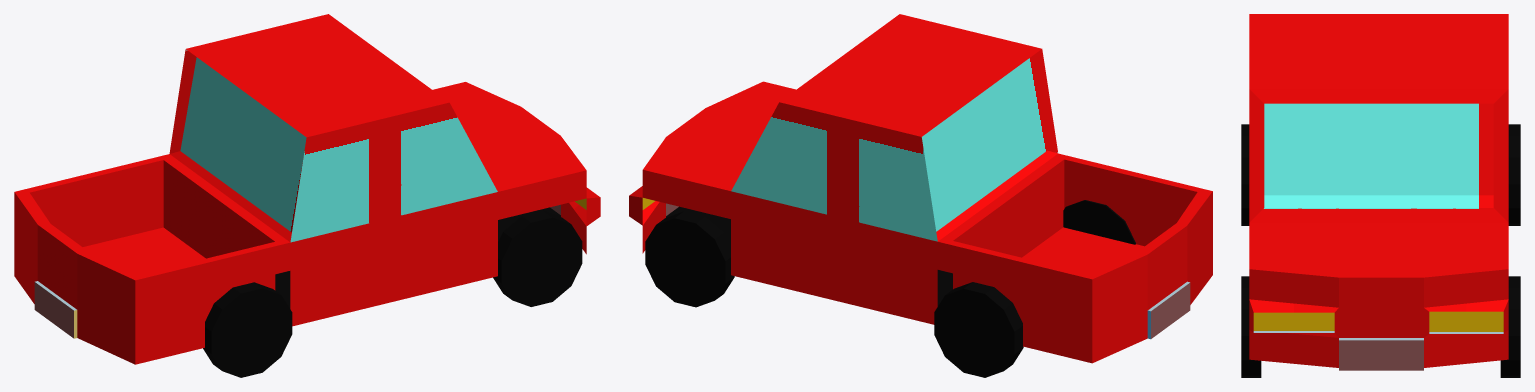
Rendered from Car.gltf.
3 views of the same model, side by side, from view 1: azimuth 30°, elevation 25°; view 2: azimuth 150°, elevation 25°; view 3: azimuth 270°, elevation 25° (orthographic). The views are drawn at different scales.
Visible parts, largest first — view 1: body, wheel (×2); view 2: body, wheel (×3); view 3: body, wheel (×4).
Part boxes in pixels (x1=…): body: x1=14, y1=14, x2=600, y2=364; wheel (×2): x1=203, y1=211, x2=582, y2=377; body: x1=629, y1=14, x2=1212, y2=363; wheel (×3): x1=645, y1=200, x2=1135, y2=377; body: x1=1249, y1=14, x2=1508, y2=370; wheel (×4): x1=1241, y1=124, x2=1520, y2=377.
Size of the model in its own units: 1.91 by 0.8187 by 0.875.
Materials: 2 (2 with a texture image).
